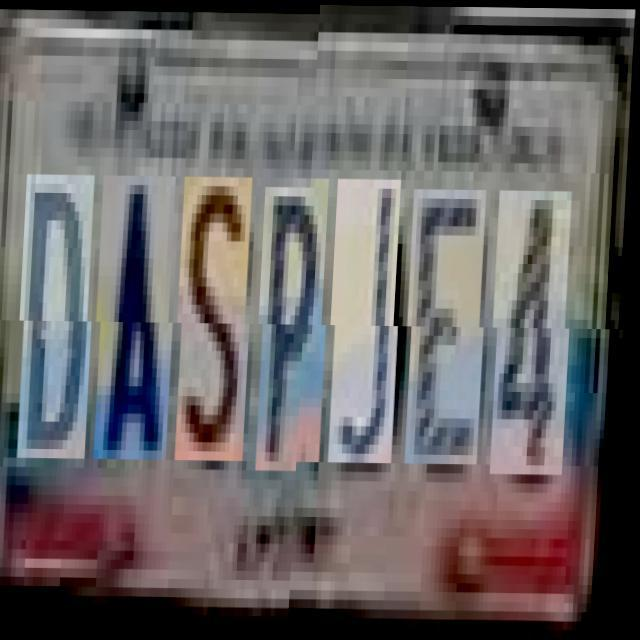4: (494, 198, 578, 482)
A: (98, 176, 182, 460)
D: (22, 174, 101, 458)
E: (409, 197, 492, 472)
J: (332, 187, 408, 471)
P: (260, 186, 336, 470)
S: (180, 176, 258, 460)
